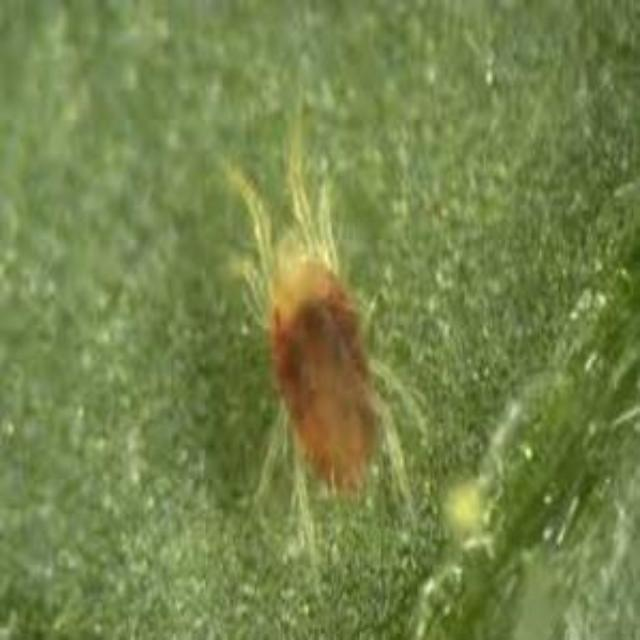spider mite: (193, 112, 462, 582)
